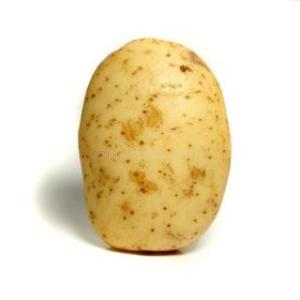potato: (77, 36, 230, 252)
